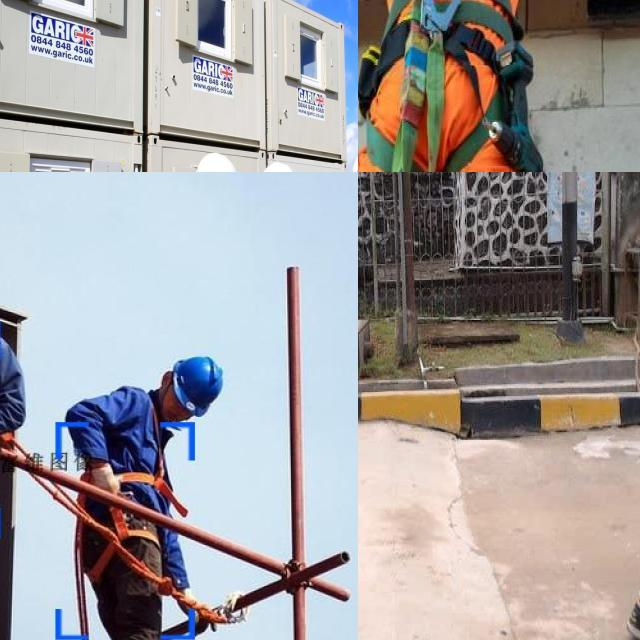Harness: (358, 0, 543, 172)
head_helmet: (192, 152, 245, 172), (256, 161, 300, 172)
